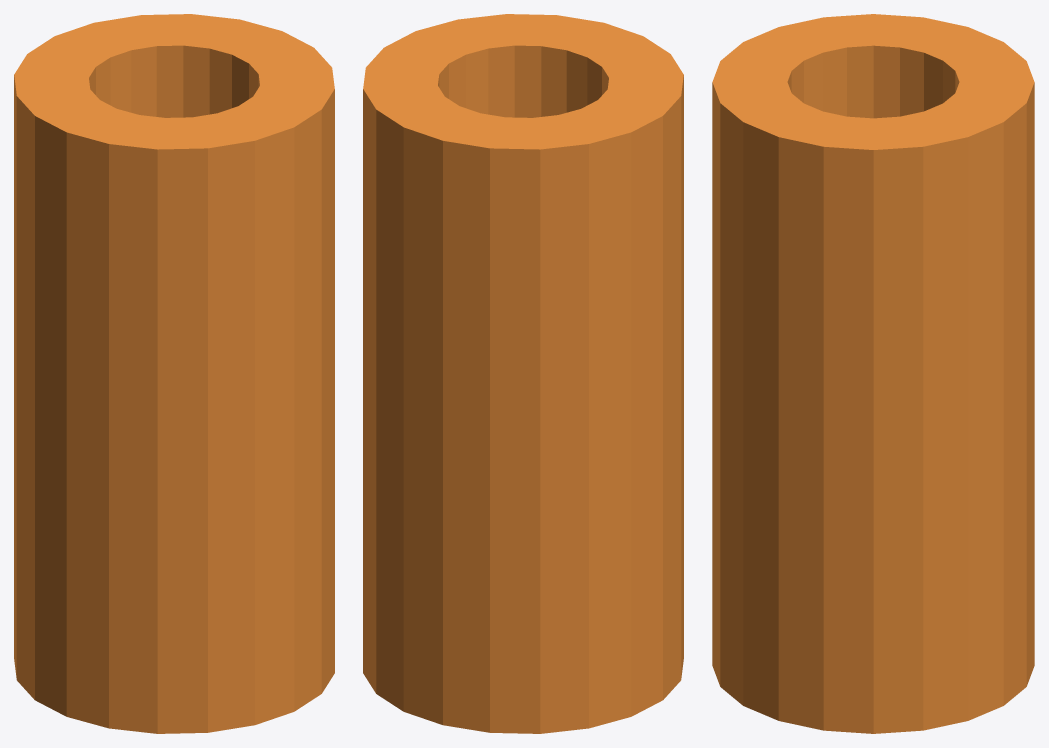
Rendered from J3_TE152883_insulated_barrel_1_nominal_envelope.glb.
The picture shows the model from 3 angles, left to right: view 1: azimuth 30°, elevation 25°; view 2: azimuth 150°, elevation 25°; view 3: azimuth 270°, elevation 25°; orthographic projection.
Visible parts, largest first — view 1: J3 TE152883 insulated barrel 1 nominal envelope; view 2: J3 TE152883 insulated barrel 1 nominal envelope; view 3: J3 TE152883 insulated barrel 1 nominal envelope.
Part boxes in pixels (x1=…): J3 TE152883 insulated barrel 1 nominal envelope: x1=14, y1=14, x2=334, y2=733; J3 TE152883 insulated barrel 1 nominal envelope: x1=363, y1=14, x2=683, y2=733; J3 TE152883 insulated barrel 1 nominal envelope: x1=712, y1=14, x2=1034, y2=733.
Size of the model in its own units: 5 by 10 by 5.
